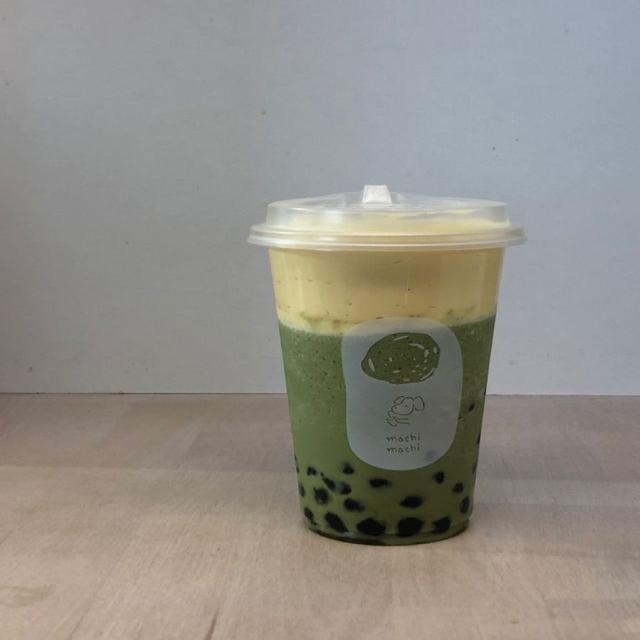plastic cup: (248, 186, 528, 545)
